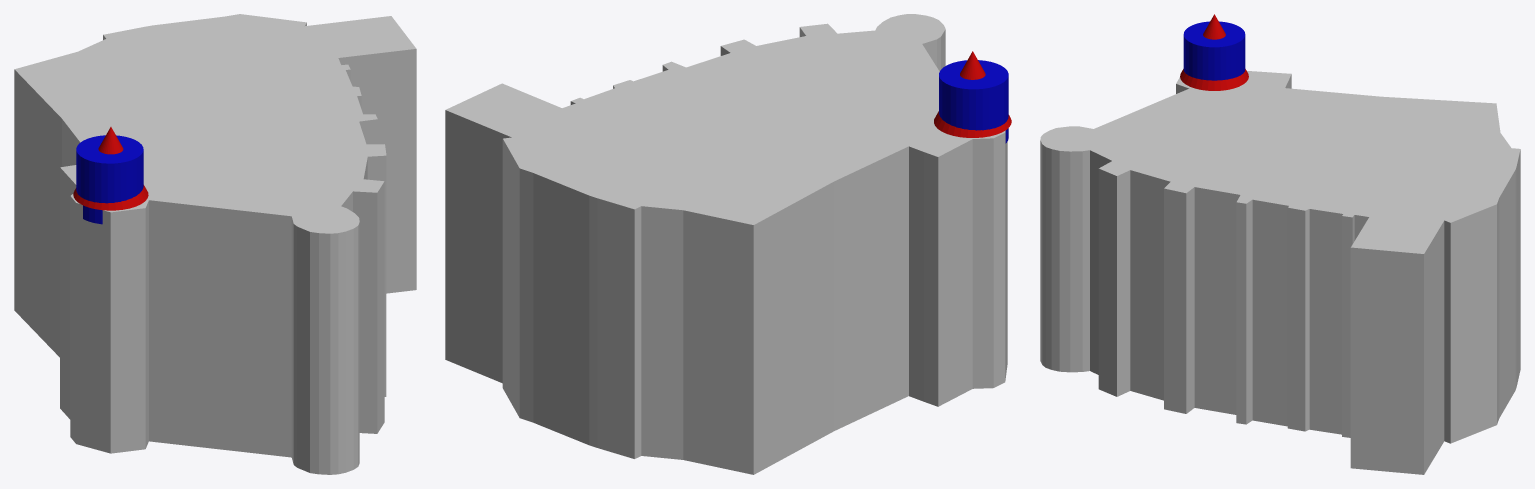
File: chateau.obj
3 views of the same model, side by side, from view 1: azimuth 30°, elevation 25°; view 2: azimuth 150°, elevation 25°; view 3: azimuth 270°, elevation 25° (orthographic). The views are drawn at different scales.
Parts seen in each view (by area): view 1: fa3d706e1906cfed683fe197ba8d8bcf_LOD2_fa3d706e1906cfed683fe197ba, fa3d706e1906cfed683fe197ba8d8bcf_LOD1_fa3d706e1906cfed683fe197ba, fa3d706e1906cfed683fe197ba8d8bcf_LOD0_fa3d706e1906cfed683fe197ba; view 2: fa3d706e1906cfed683fe197ba8d8bcf_LOD2_fa3d706e1906cfed683fe197ba, fa3d706e1906cfed683fe197ba8d8bcf_LOD1_fa3d706e1906cfed683fe197ba, fa3d706e1906cfed683fe197ba8d8bcf_LOD0_fa3d706e1906cfed683fe197ba; view 3: fa3d706e1906cfed683fe197ba8d8bcf_LOD2_fa3d706e1906cfed683fe197ba, fa3d706e1906cfed683fe197ba8d8bcf_LOD1_fa3d706e1906cfed683fe197ba, fa3d706e1906cfed683fe197ba8d8bcf_LOD0_fa3d706e1906cfed683fe197ba.
Part boxes in pixels (x1,y1,x2,y2): fa3d706e1906cfed683fe197ba8d8bcf_LOD2_fa3d706e1906cfed683fe197ba: (14,14,416,474); fa3d706e1906cfed683fe197ba8d8bcf_LOD1_fa3d706e1906cfed683fe197ba: (76,135,143,224); fa3d706e1906cfed683fe197ba8d8bcf_LOD0_fa3d706e1906cfed683fe197ba: (73,127,148,210); fa3d706e1906cfed683fe197ba8d8bcf_LOD2_fa3d706e1906cfed683fe197ba: (445,14,1007,474); fa3d706e1906cfed683fe197ba8d8bcf_LOD1_fa3d706e1906cfed683fe197ba: (939,60,1008,143); fa3d706e1906cfed683fe197ba8d8bcf_LOD0_fa3d706e1906cfed683fe197ba: (934,51,1011,137); fa3d706e1906cfed683fe197ba8d8bcf_LOD2_fa3d706e1906cfed683fe197ba: (1040,71,1520,474); fa3d706e1906cfed683fe197ba8d8bcf_LOD1_fa3d706e1906cfed683fe197ba: (1183,21,1245,80); fa3d706e1906cfed683fe197ba8d8bcf_LOD0_fa3d706e1906cfed683fe197ba: (1180,14,1248,90).
Bounding box in the file's own units: 57.72 × 40.06 × 61.26.
